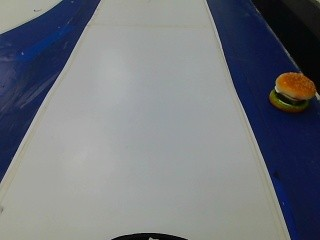burger: (268, 69, 314, 115)
